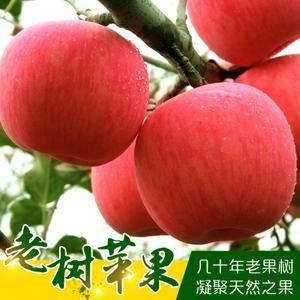apple: (134, 85, 297, 246), (1, 26, 150, 172)
